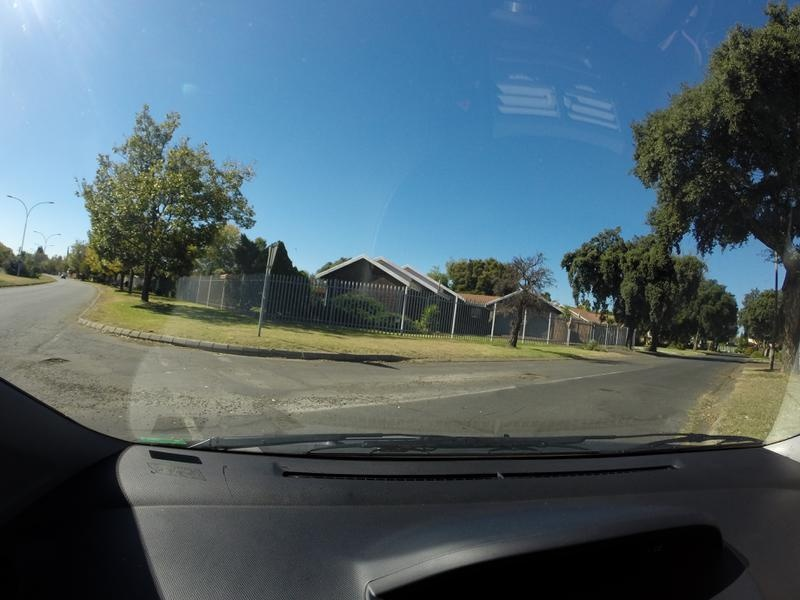pothole: (169, 390, 383, 412), (54, 389, 145, 409), (514, 365, 552, 382), (36, 356, 69, 369)
